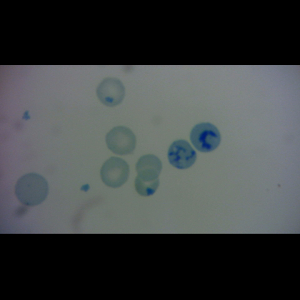aggregate reticulocyte: (189, 121, 223, 154), (166, 139, 199, 170)
erythrocyte: (104, 125, 138, 157), (95, 76, 127, 108), (99, 156, 131, 188), (134, 153, 164, 183), (133, 169, 162, 197)
punctate reticulocyte: (14, 172, 50, 207)
